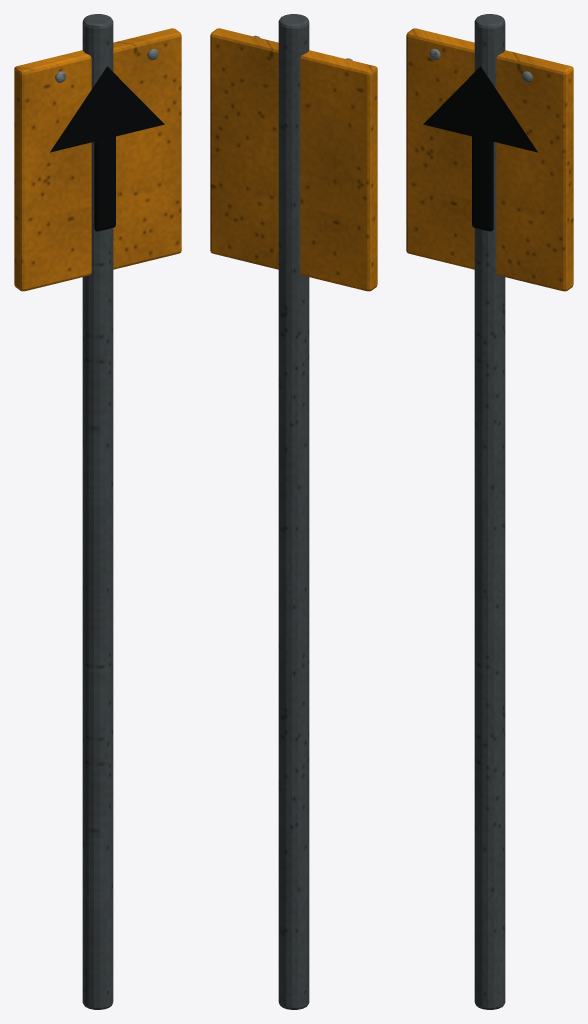
The model's file is PROP-2EFBB56C7E2A_lod0.glb.
3 renders of one model, left to right at view 1: azimuth 30°, elevation 25°; view 2: azimuth 150°, elevation 25°; view 3: azimuth 330°, elevation 25°, orthographic.
Parts seen in each view (by area): view 1: sign_plate.001, sign_post.001, direction_symbol.001, symbol_stem.001; view 2: sign_plate.001, sign_post.001; view 3: sign_plate.001, sign_post.001, direction_symbol.001, symbol_stem.001.
Boxes of the visible parts, left/top/right/bottom form: sign_plate.001: left=14, top=28, right=181, bottom=291; sign_post.001: left=82, top=14, right=113, bottom=1009; direction_symbol.001: left=50, top=66, right=164, bottom=152; symbol_stem.001: left=94, top=136, right=115, bottom=231; sign_plate.001: left=210, top=28, right=377, bottom=291; sign_post.001: left=278, top=14, right=309, bottom=1009; sign_plate.001: left=406, top=28, right=573, bottom=291; sign_post.001: left=474, top=14, right=505, bottom=1009; direction_symbol.001: left=423, top=66, right=537, bottom=152; symbol_stem.001: left=472, top=136, right=493, bottom=231.
Bounding box in the file's own units: 0.42 × 2.45 × 0.083.
Materials: 4 (4 with a texture image).
